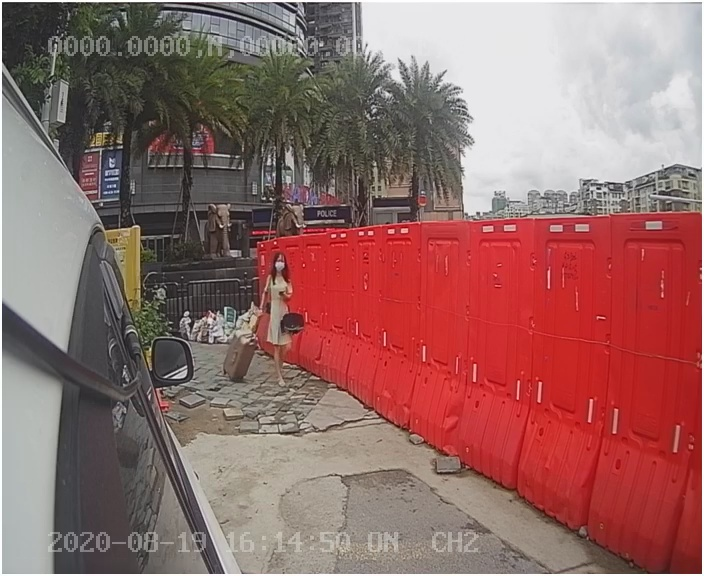person: (253, 246, 313, 393)
